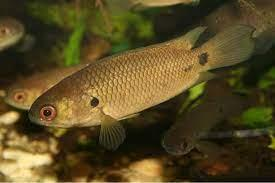Climbing Perch: (29, 25, 256, 150)
